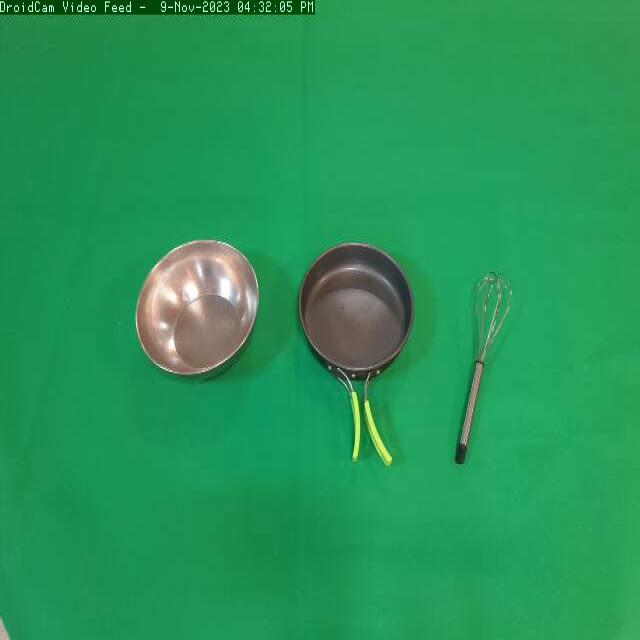bowl: (126, 231, 266, 383)
pan: (290, 228, 425, 496)
whisk: (454, 266, 517, 472)
